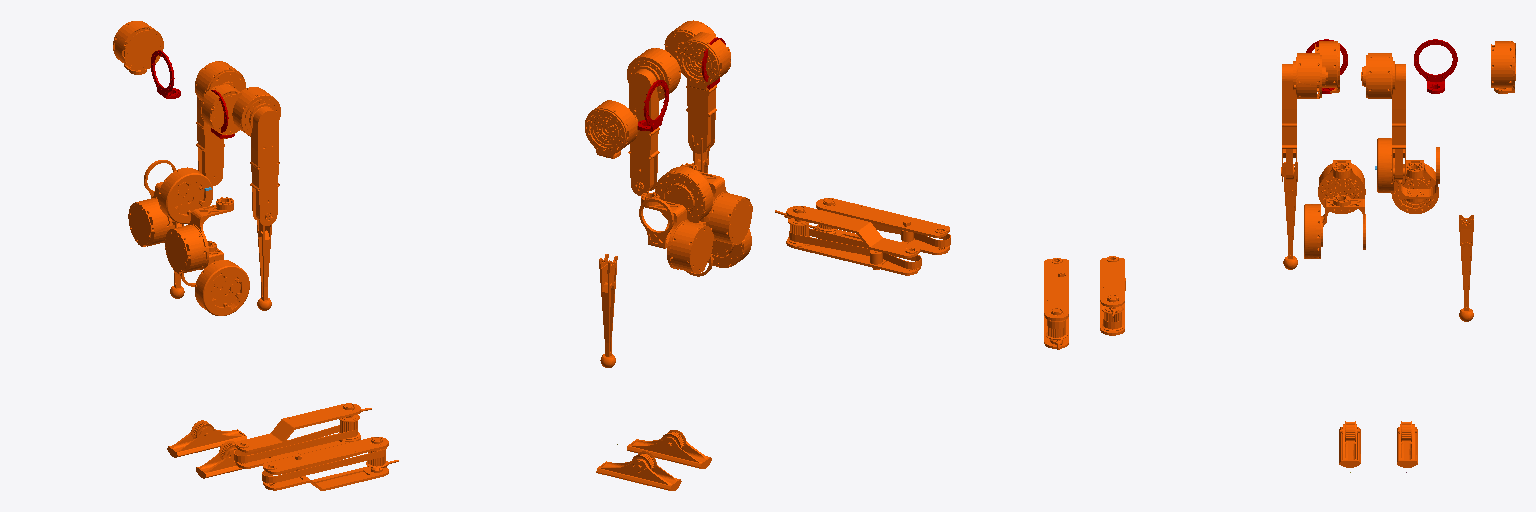
--- Render facts (derived) ---
3 views of the same robot in one strip: view 1: azimuth 30°, elevation 25°; view 2: azimuth 150°, elevation 25°; view 3: azimuth 270°, elevation 25° (orthographic).
Model robot with 18 links and 17 joints (16 revolute, 1 fixed), rooted at base, posed all joints at 0.
Links seen in each view (by area): view 1: R_LUpperArm, R_LShank, L_LShank, R_LHipRx, L_LUpperArm, L_LHipRx, R_LHipRz, L_LForeArm, R_LForeArm, L_LHipRz, L_Foot, R_Foot (+1 smaller); view 2: L_LShank, L_LUpperArm, L_LForeArm, R_LShank, L_LHipRx, L_LHipRz, R_LUpperArm, R_LForeArm, R_LHipRz, L_Foot, R_Foot, R_LHipRx (+1 smaller); view 3: R_LUpperArm, L_LUpperArm, L_LForeArm, R_LShank, L_LShank, R_LForeArm, R_LHipRz, R_LHipRx, L_LHipRx, L_LHipRz, R_Foot, L_Foot (+1 smaller).
Boxes of the visible links, box(x1,y1,x2,y2) form: R_LUpperArm: box(232, 87, 280, 225); R_LShank: box(262, 437, 398, 490); L_LShank: box(234, 403, 371, 468); R_LHipRx: box(180, 241, 249, 315); L_LUpperArm: box(195, 61, 245, 185); L_LHipRx: box(144, 160, 212, 223); R_LHipRz: box(165, 197, 233, 273); L_LForeArm: box(113, 21, 184, 298); R_LForeArm: box(200, 84, 271, 310); L_LHipRz: box(128, 182, 172, 246); L_Foot: box(167, 420, 246, 457); R_Foot: box(196, 441, 246, 478); L_LShank: box(775, 206, 921, 275); L_LUpperArm: box(627, 48, 680, 195); L_LForeArm: box(585, 100, 638, 367); R_LShank: box(809, 198, 950, 254); L_LHipRx: box(639, 166, 712, 248); L_LHipRz: box(641, 191, 713, 273); R_LUpperArm: box(664, 20, 716, 153); R_LForeArm: box(678, 32, 730, 172); R_LHipRz: box(681, 163, 752, 244); L_Foot: box(596, 451, 681, 490); R_Foot: box(617, 430, 711, 468); R_LHipRx: box(686, 216, 751, 276); R_LUpperArm: box(1281, 53, 1327, 181); L_LUpperArm: box(1361, 53, 1406, 181); L_LForeArm: box(1459, 41, 1515, 321); R_LShank: box(1044, 258, 1068, 349); L_LShank: box(1100, 256, 1125, 335); R_LForeArm: box(1283, 41, 1339, 269); R_LHipRz: box(1318, 160, 1365, 213); R_LHipRx: box(1304, 195, 1365, 258); L_LHipRx: box(1377, 138, 1439, 202); L_LHipRz: box(1391, 160, 1438, 213); R_Foot: box(1339, 421, 1360, 472); L_Foot: box(1397, 421, 1417, 472).
Size in the robot's own frame: 0.3961 by 0.9617 by 0.8937 metres.
16 mesh visuals loaded from 17 distinct referenced files (14 OBJ); not drawn: 3 (reference not matched to a file when rendering).

The robot description file, URDF, robot "robot":
<?xml version="1.0" ?>
<!-- =================================================================================== -->
<!-- |    This document was autogenerated by xacro from robot.xacro                    | -->
<!-- |    EDITING THIS FILE BY HAND IS NOT RECOMMENDED                                 | -->
<!-- =================================================================================== -->
<robot name="robot">
  <material name="black">
    <color rgba="0.0 0.0 0.0 1.0"/>
  </material>
  <material name="blue">
    <color rgba="0.0 0.0 0.8 1.0"/>
  </material>
  <material name="green">
    <color rgba="0.0 0.8 0.0 1.0"/>
  </material>
  <material name="grey">
    <color rgba="0.2 0.2 0.2 1.0"/>
  </material>
  <material name="silver">
    <color rgba="0.9137254901960784 0.9137254901960784 0.8470588235294118 1.0"/>
  </material>
  <material name="orange">
    <color rgba="1.0 0.4235294117647059 0.0392156862745098 1.0"/>
  </material>
  <material name="brown">
    <color rgba="0.8705882352941177 0.8117647058823529 0.7647058823529411 1.0"/>
  </material>
  <material name="red">
    <color rgba="0.8 0.0 0.0 1.0"/>
  </material>
  <material name="white">
    <color rgba="1.0 1.0 1.0 1.0"/>
  </material>
  <!-- ros_control plugin -->
  <gazebo>
    <plugin filename="liblegged_hw_sim.so" name="gazebo_ros_control">
      <robotNamespace>/</robotNamespace>
      <robotParam>legged_robot_description</robotParam>
      <robotSimType>legged_gazebo/LeggedHWSim</robotSimType>
    </plugin>
  </gazebo>
  <gazebo>
    <plugin filename="libgazebo_ros_p3d.so" name="p3d_base_controller">
      <alwaysOn>true</alwaysOn>
      <updateRate>1000.0</updateRate>
      <bodyName>base</bodyName>
      <topicName>ground_truth/state</topicName>
      <gaussianNoise>0</gaussianNoise>
      <frameName>world</frameName>
      <xyzOffsets>0 0 0</xyzOffsets>
      <rpyOffsets>0 0 0</rpyOffsets>
    </plugin>
  </gazebo>
  <link name="base">
    <visual>
      <origin rpy="0 0 0" xyz="0 0 0"/>
      <geometry>
        <mesh filename="package://legged_unitree_description/meshes/a1/Body.obj" scale="1 1 1"/>
      </geometry>
    </visual>
    <collision>
      <origin rpy="0 0 0" xyz="0 0 0"/>
      <geometry>
        <box size="0.267 0.194 0.114"/>
      </geometry>
    </collision>
    <inertial>
      <origin rpy="0 0 0" xyz="0.0 0.0 0.15"/>
      <mass value="6.5"/>
      <inertia ixx="0.3006167" ixy="-0.0" ixz="-0.0" iyy="0.23837" iyz="-0.0" izz="0.09690467"/>
    </inertial>
  </link>
  <!-- Imu is fixed to the base link -->
  <joint name="unitree_imu_joint" type="fixed">
    <origin rpy="0. 0. 0." xyz="0. 0. 0."/>
    <parent link="base"/>
    <child link="unitree_imu"/>
  </joint>
  <!-- Imu link -->
  <link name="unitree_imu">
    <inertial>
      <mass value="0.01"/>
      <origin rpy="0 0 0" xyz="0 0 0"/>
      <inertia ixx="0.000001" ixy="0" ixz="0" iyy="0.000001" iyz="0" izz="0.000001"/>
    </inertial>
    <visual>
      <origin rpy="0 0 0" xyz="0 0 0"/>
      <geometry>
        <box size="0.015 0.015 0.004"/>
      </geometry>
    </visual>
    <material name="orange">
      <color rgba="255 108 10 255"/>
    </material>
  </link>
  <gazebo reference="unitree_imu">
    <material>Gazebo/Orange</material>
  </gazebo>
  <gazebo reference="unitree_imu_joint">
    <disableFixedJointLumping>true</disableFixedJointLumping>
  </gazebo>
  <joint name="L_JHipRz" type="revolute">
    <origin rpy="0 0 0" xyz="0 0.075 0"/>
    <parent link="base"/>
    <child link="L_LHipRz"/>
    <axis xyz="0 0 1"/>
    <dynamics damping="100" friction="100"/>
    <limit effort="33.5" lower="-3" upper="3" velocity="21"/>
  </joint>
  <link name="L_LHipRz">
    <visual>
      <origin rpy="0 0 0.0" xyz="0 0 0"/>
      <geometry>
        <mesh filename="package://legged_unitree_description/meshes/a1/L_HipRz.obj" scale="1 1 1"/>
      </geometry>
      <material name="orange"/>
    </visual>
    <inertial>
      <origin rpy="0 0 0" xyz="0.0 0.0 -0.01"/>
      <mass value="0.30"/>
      <inertia ixx="0.003735" ixy="0.0" ixz="0.0" iyy="0.01391" iyz="0.0" izz="0.01355"/>
    </inertial>
  </link>
  <joint name="L_JHipRx" type="revolute">
    <origin rpy="0 0 0" xyz="-0.041 0.0 -0.0885"/>
    <parent link="L_LHipRz"/>
    <child link="L_LHipRx"/>
    <axis xyz="1 0 0"/>
    <dynamics damping="100" friction="100"/>
    <limit effort="33.5" lower="-3" upper="3" velocity="33.5"/>
  </joint>
  <link name="L_LHipRx">
    <visual>
      <origin rpy="0 -3.14 -3.14" xyz="0. 0.00 -0.0"/>
      <geometry>
        <mesh filename="package://legged_unitree_description/meshes/a1/L_HipRx.obj" scale="1 1 1"/>
      </geometry>
      <material name="orange"/>
    </visual>
    <inertial>
      <origin rpy="0 0 0" xyz="0.0 0.0 -0.01"/>
      <mass value="0.30"/>
      <inertia ixx="0.003735" ixy="0.0" ixz="0.0" iyy="0.01391" iyz="0.0" izz="0.01355"/>
    </inertial>
  </link>
  <joint name="L_JThigh" type="revolute">
    <origin rpy="0 0 0" xyz="0.065 0.0 0.0"/>
    <parent link="L_LHipRx"/>
    <child link="L_LThigh"/>
    <axis xyz="0 1 0"/>
    <dynamics damping="100" friction="100"/>
    <limit effort="33.5" lower="-3" upper="3" velocity="33.5"/>
  </joint>
  <link name="L_LThigh">
    <visual>
      <origin rpy="0 0 -3.14" xyz="0. 0.00 -0.0"/>
      <geometry>
        <mesh filename="package://legged_unitree_description/meshes/a1/L_Thigh.obj" scale="1 1 1"/>
      </geometry>
      <material name="orange"/>
    </visual>
    <inertial>
      <origin rpy="0 0 0" xyz="0.0 0.0 -0.01"/>
      <mass value="1.0"/>
      <inertia ixx="0.003735" ixy="0.0" ixz="0.0" iyy="0.01391" iyz="0.0" izz="0.01355"/>
    </inertial>
  </link>
  <joint name="L_JKnee" type="revolute">
    <origin rpy="0 0 0" xyz="0.0 -0.017875 -0.247"/>
    <parent link="L_LThigh"/>
    <child link="L_LShank"/>
    <axis xyz="0 1 0"/>
    <dynamics damping="100" friction="100"/>
    <limit effort="33.5" lower="-3" upper="3" velocity="33.5"/>
  </joint>
  <link name="L_LShank">
    <visual>
      <origin rpy="0 -3.14 0" xyz="0 -0.6 0"/>
      <geometry>
        <mesh filename="package://legged_unitree_description/meshes/a1/L_LowerLeg3_drawing.obj" scale="1 1 1"/>
      </geometry>
      <material name="orange"/>
    </visual>
    <inertial>
      <origin rpy="0 0 0" xyz="-0.03416 -0.00075 -0.01"/>
      <mass value="0.70"/>
      <inertia ixx="0.003735" ixy="0.0" ixz="0.0" iyy="0.01391" iyz="0.0" izz="0.01355"/>
    </inertial>
  </link>
  <joint name="L_JAnkle" type="revolute">
    <origin rpy="0 0 0" xyz="0.0 0.0 -0.247"/>
    <parent link="L_LShank"/>
    <child link="L_Foot"/>
    <axis xyz="0 1 0"/>
    <dynamics damping="100" friction="100"/>
    <limit effort="33.5" lower="-3" upper="3" velocity="33.5"/>
  </joint>
  <link name="L_Foot">
    <visual>
      <origin rpy="1.57 1.57 0" xyz="0 0 0"/>
      <geometry>
        <mesh filename="package://legged_unitree_description/meshes/a1/L_foot_drawing.obj" scale="1 1 1"/>
      </geometry>
      <material name="orange"/>
    </visual>
    <visual>
      <geometry>
        <sphere radius="0.001"/>
      </geometry>
      <origin rpy="0 0 0" xyz="0.125 0.0 -0.033"/>
    </visual>
    <collision>
      <geometry>
        <sphere radius="0.0"/>
      </geometry>
      <origin rpy="0 0 0" xyz="0.125 0.0 -0.033"/>
    </collision>
    <visual>
      <geometry>
        <sphere radius="0.001"/>
      </geometry>
      <origin rpy="0 0 0" xyz="-0.025 0.0 -0.033"/>
    </visual>
    <collision>
      <geometry>
        <sphere radius="0.0"/>
      </geometry>
      <origin rpy="0 0 0" xyz="-0.025 0.0 -0.033"/>
    </collision>
    <inertial>
      <origin rpy="0 0 0" xyz="0.0 0.0 -0.01"/>
      <mass value="0.30"/>
      <inertia ixx="0.003735" ixy="0.0" ixz="0.0" iyy="0.01391" iyz="0.0" izz="0.01355"/>
    </inertial>
  </link>
  <gazebo reference="L_LHipRz">
    <mu1>0.2</mu1>
    <mu2>0.2</mu2>
    <material>Gazebo/DarkGrey</material>
    <kp value="1000000.0"/>
    <kd value="100.0"/>
  </gazebo>
  <gazebo reference="L_LHipRx">
    <mu1>0.2</mu1>
    <mu2>0.2</mu2>
    <material>Gazebo/DarkGrey</material>
    <kp value="1000000.0"/>
    <kd value="100.0"/>
  </gazebo>
  <gazebo reference="L_LThigh">
    <mu1>0.2</mu1>
    <mu2>0.2</mu2>
    <material>Gazebo/DarkGrey</material>
    <kp value="1000000.0"/>
    <kd value="100.0"/>
  </gazebo>
  <gazebo reference="L_LShank">
    <mu1>0.2</mu1>
    <mu2>0.2</mu2>
    <material>Gazebo/DarkGrey</material>
    <kp value="1000000.0"/>
    <kd value="100.0"/>
  </gazebo>
  <gazebo reference="L_Foot">
    <mu1>0.2</mu1>
    <mu2>0.2</mu2>
    <material>Gazebo/DarkGrey</material>
    <kp value="1000000.0"/>
    <kd value="100.0"/>
  </gazebo>
  <transmission name="L_JHipRz_tran">
    <type>transmission_interface/SimpleTransmission</type>
    <joint name="L_JHipRz">
      <hardwareInterface>hardware_interface/EffortJointInterface</hardwareInterface>
    </joint>
    <actuator name="L_JHipRz_motor">
      <hardwareInterface>hardware_interface/EffortJointInterface</hardwareInterface>
      <mechanicalReduction>1</mechanicalReduction>
    </actuator>
  </transmission>
  <transmission name="L_JHipRx_tran">
    <type>transmission_interface/SimpleTransmission</type>
    <joint name="L_JHipRx">
      <hardwareInterface>hardware_interface/EffortJointInterface</hardwareInterface>
    </joint>
    <actuator name="L_JHipRx_motor">
      <hardwareInterface>hardware_interface/EffortJointInterface</hardwareInterface>
      <mechanicalReduction>1</mechanicalReduction>
    </actuator>
  </transmission>
  <transmission name="L_JThigh_tran">
    <type>transmission_interface/SimpleTransmission</type>
    <joint name="L_JThigh">
      <hardwareInterface>hardware_interface/EffortJointInterface</hardwareInterface>
    </joint>
    <actuator name="L_JThigh_motor">
      <hardwareInterface>hardware_interface/EffortJointInterface</hardwareInterface>
      <mechanicalReduction>1</mechanicalReduction>
    </actuator>
  </transmission>
  <transmission name="L_JKnee_tran">
    <type>transmission_interface/SimpleTransmission</type>
    <joint name="L_JKnee">
      <hardwareInterface>hardware_interface/EffortJointInterface</hardwareInterface>
    </joint>
    <actuator name="L_JKnee_motor">
      <hardwareInterface>hardware_interface/EffortJointInterface</hardwareInterface>
      <mechanicalReduction>1</mechanicalReduction>
    </actuator>
  </transmission>
  <transmission name="L_JAnkle_tran">
    <type>transmission_interface/SimpleTransmission</type>
    <joint name="L_JAnkle">
      <hardwareInterface>hardware_interface/EffortJointInterface</hardwareInterface>
    </joint>
    <actuator name="L_JAnkle_motor">
      <hardwareInterface>hardware_interface/EffortJointInterface</hardwareInterface>
      <mechanicalReduction>1</mechanicalReduction>
    </actuator>
  </transmission>
  <joint name="R_JHipRz" type="revolute">
    <origin rpy="0 0 0" xyz="0 -0.075 0"/>
    <parent link="base"/>
    <child link="R_LHipRz"/>
    <axis xyz="0 0 1"/>
    <dynamics damping="100" friction="100"/>
    <limit effort="33.5" lower="-3" upper="3" velocity="21"/>
  </joint>
  <link name="R_LHipRz">
    <visual>
      <origin rpy="0 0 0.0" xyz="0 0 0"/>
      <geometry>
        <mesh filename="package://legged_unitree_description/meshes/a1/R_HipRz.obj" scale="1 1 1"/>
      </geometry>
      <material name="orange"/>
    </visual>
    <inertial>
      <origin rpy="0 0 0" xyz="0.0 0.0 -0.01"/>
      <mass value="0.30"/>
      <inertia ixx="0.003735" ixy="0.0" ixz="0.0" iyy="0.01391" iyz="0.0" izz="0.01355"/>
    </inertial>
  </link>
  <joint name="R_JHipRx" type="revolute">
    <origin rpy="0 0 0" xyz="-0.041 0.0 -0.0885"/>
    <parent link="R_LHipRz"/>
    <child link="R_LHipRx"/>
    <axis xyz="1 0 0"/>
    <dynamics damping="100" friction="100"/>
    <limit effort="33.5" lower="-3" upper="3" velocity="33.5"/>
  </joint>
  <link name="R_LHipRx">
    <visual>
      <geometry>
        <mesh filename="package://legged_unitree_description/meshes/a1/R_HipRx.obj" scale="1 1 1"/>
      </geometry>
      <material name="orange"/>
    </visual>
    <inertial>
      <origin rpy="0 0 0" xyz="0.0 0.0 -0.01"/>
      <mass value="0.30"/>
      <inertia ixx="0.003735" ixy="0.0" ixz="0.0" iyy="0.01391" iyz="0.0" izz="0.01355"/>
    </inertial>
  </link>
  <joint name="R_JThigh" type="revolute">
    <origin rpy="0 0 0" xyz="0.065 0.0 0.0"/>
    <parent link="R_LHipRx"/>
    <child link="R_LThigh"/>
    <axis xyz="0 1 0"/>
    <dynamics damping="100" friction="100"/>
    <limit effort="33.5" lower="-3" upper="3" velocity="33.5"/>
  </joint>
  <link name="R_LThigh">
    <visual>
      <geometry>
        <mesh filename="package://legged_unitree_description/meshes/a1/R_Thigh.obj" scale="1 1 1"/>
      </geometry>
      <material name="orange"/>
    </visual>
    <inertial>
      <origin rpy="0 0 0" xyz="0.0 0.0 -0.01"/>
      <mass value="1.0"/>
      <inertia ixx="0.003735" ixy="0.0" ixz="0.0" iyy="0.01391" iyz="0.0" izz="0.01355"/>
    </inertial>
  </link>
  <joint name="R_JKnee" type="revolute">
    <origin rpy="0 0 0" xyz="0.0 0.017875 -0.247"/>
    <parent link="R_LThigh"/>
    <child link="R_LShank"/>
    <axis xyz="0 1 0"/>
    <dynamics damping="100" friction="100"/>
    <limit effort="33.5" lower="-3" upper="3" velocity="33.5"/>
  </joint>
  <link name="R_LShank">
    <visual>
      <origin rpy="0 -3.14 0" xyz="0 -0.6 0"/>
      <geometry>
        <mesh filename="package://legged_unitree_description/meshes/a1/R_LowerLeg3_drawing.obj" scale="1 1 1"/>
      </geometry>
      <material name="orange"/>
    </visual>
    <inertial>
      <origin rpy="0 0 0" xyz="-0.03416 -0.00075 -0.01"/>
      <mass value="0.70"/>
      <inertia ixx="0.003735" ixy="0.0" ixz="0.0" iyy="0.01391" iyz="0.0" izz="0.01355"/>
    </inertial>
  </link>
  <joint name="R_JAnkle" type="revolute">
    <origin rpy="0 0 0" xyz="0.0 0.0 -0.247"/>
    <parent link="R_LShank"/>
    <child link="R_Foot"/>
    <axis xyz="0 1 0"/>
    <dynamics damping="100" friction="100"/>
    <limit effort="33.5" lower="-3" upper="3" velocity="33.5"/>
  </joint>
  <link name="R_Foot">
    <visual>
      <origin rpy="1.57 1.57 0" xyz="0 0 0"/>
      <geometry>
        <mesh filename="package://legged_unitree_description/meshes/a1/R_foot_drawing.obj" scale="1 1 1"/>
      </geometry>
      <material name="orange"/>
    </visual>
    <visual>
      <geometry>
        <sphere radius="0.001"/>
      </geometry>
      <origin rpy="0 0 0" xyz="0.125 0.0 -0.033"/>
    </visual>
    <collision>
      <geometry>
        <sphere radius="0.0"/>
      </geometry>
      <origin rpy="0 0 0" xyz="0.125 0.0 -0.033"/>
    </collision>
    <visual>
      <geometry>
        <sphere radius="0.001"/>
      </geometry>
      <origin rpy="0 0 0" xyz="-0.025 0.0 -0.033"/>
    </visual>
    <collision>
      <geometry>
        <sphere radius="0.0"/>
      </geometry>
      <origin rpy="0 0 0" xyz="-0.025 0.0 -0.033"/>
    </collision>
    <inertial>
      <origin rpy="0 0 0" xyz="0.0 0.0 -0.01"/>
      <mass value="0.30"/>
      <inertia ixx="0.003735" ixy="0.0" ixz="0.0" iyy="0.01391" iyz="0.0" izz="0.01355"/>
    </inertial>
  </link>
  <gazebo reference="R_LHipRz">
    <mu1>0.2</mu1>
    <mu2>0.2</mu2>
    <material>Gazebo/DarkGrey</material>
    <kp value="1000000.0"/>
    <kd value="100.0"/>
  </gazebo>
  <gazebo reference="R_LHipRx">
    <mu1>0.2</mu1>
    <mu2>0.2</mu2>
    <material>Gazebo/DarkGrey</material>
    <kp value="1000000.0"/>
    <kd value="100.0"/>
  </gazebo>
  <gazebo reference="R_LThigh">
    <mu1>0.2</mu1>
    <mu2>0.2</mu2>
    <material>Gazebo/DarkGrey</material>
    <kp value="1000000.0"/>
    <kd value="100.0"/>
  </gazebo>
  <gazebo reference="R_LShank">
    <mu1>0.2</mu1>
    <mu2>0.2</mu2>
    <material>Gazebo/DarkGrey</material>
    <kp value="1000000.0"/>
    <kd value="100.0"/>
  </gazebo>
  <gazebo reference="R_Foot">
    <mu1>0.2</mu1>
    <mu2>0.2</mu2>
    <material>Gazebo/DarkGrey</material>
    <kp value="1000000.0"/>
    <kd value="100.0"/>
  </gazebo>
  <transmission name="R_JHipRz_tran">
    <type>transmission_interface/SimpleTransmission</type>
    <joint name="R_JHipRz">
      <hardwareInterface>hardware_interface/EffortJointInterface</hardwareInterface>
    </joint>
    <actuator name="R_JHipRz_motor">
      <hardwareInterface>hardware_interface/EffortJointInterface</hardwareInterface>
      <mechanicalReduction>1</mechanicalReduction>
    </actuator>
  </transmission>
  <transmission name="R_JHipRx_tran">
    <type>transmission_interface/SimpleTransmission</type>
    <joint name="R_JHipRx">
      <hardwareInterface>hardware_interface/EffortJointInterface</hardwareInterface>
    </joint>
    <actuator name="R_JHipRx_motor">
      <hardwareInterface>hardware_interface/EffortJointInterface</hardwareInterface>
      <mechanicalReduction>1</mechanicalReduction>
    </actuator>
  </transmission>
  <transmission name="R_JThigh_tran">
    <type>transmission_interface/SimpleTransmission</type>
    <joint name="R_JThigh">
      <hardwareInterface>hardware_interface/EffortJointInterface</hardwareInterface>
    </joint>
    <actuator name="R_JThigh_motor">
      <hardwareInterface>hardware_interface/EffortJointInterface</hardwareInterface>
      <mechanicalReduction>1</mechanicalReduction>
    </actuator>
  </transmission>
  <transmission name="R_JKnee_tran">
    <type>transmission_interface/SimpleTransmission</type>
    <joint name="R_JKnee">
      <hardwareInterface>hardware_interface/EffortJointInterface</hardwareInterface>
    </joint>
    <actuator name="R_JKnee_motor">
      <hardwareInterface>hardware_interface/EffortJointInterface</hardwareInterface>
      <mechanicalReduction>1</mechanicalReduction>
    </actuator>
  </transmission>
  <transmission name="R_JAnkle_tran">
    <type>transmission_interface/SimpleTransmission</type>
    <joint name="R_JAnkle">
      <hardwareInterface>hardware_interface/EffortJointInterface</hardwareInterface>
    </joint>
    <actuator name="R_JAnkle_motor">
      <hardwareInterface>hardware_interface/EffortJointInterface</hardwareInterface>
      <mechanicalReduction>1</mechanicalReduction>
    </actuator>
  </transmission>
  <joint name="L_JShoulderRx" type="revolute">
    <origin rpy="0 0 0" xyz="-0.0215 0.1115 0.202"/>
    <parent link="base"/>
    <child link="L_LShoulderRx"/>
    <axis xyz="1 0 0"/>
    <dynamics damping="100" friction="100"/>
    <limit effort="33.5" lower="-3" upper="3" velocity="21"/>
  </joint>
  <link name="L_LShoulderRx">
    <visual>
      <origin rpy="3.14 0 -1.570" xyz="0.006 -0.005 -0.034"/>
      <origin rpy="3.14 0 -1.570" xyz="0.006 0.005 -0.034"/>
      <geometry>
        <mesh filename="package://legged_unitree_description/meshes/a1/L_ShoulderRx.obj" scale="1 1 1"/>
      </geometry>
      <material name="red"/>
    </visual>
    <inertial>
      <origin rpy="0 0 0" xyz="0.01 0.0 0.0"/>
      <mass value="0.30"/>
      <inertia ixx="0.003735" ixy="0.0" ixz="0.0" iyy="0.01391" iyz="0.0" izz="0.01355"/>
    </inertial>
  </link>
  <joint name="L_JUpperArm" type="revolute">
    <origin rpy="0 0 0" xyz="0.0545 0.0 0.0"/>
    <parent link="L_LShoulderRx"/>
    <child link="L_LUpperArm"/>
    <axis xyz="0 1 0"/>
    <dynamics damping="100" friction="100"/>
    <limit effort="33.5" lower="-3" upper="3" velocity="33.5"/>
  </joint>
  <link name="L_LUpperArm">
    <visual>
      <origin rpy="1.57 1.57 0" xyz="0. 0.07 0.02"/>
      <origin rpy="1.57 1.57 0.0" xyz="0 -0.07 0.02"/>
      <geometry>
        <mesh filename="package://legged_unitree_description/meshes/a1/L_UpperArm.obj" scale="1 1 1"/>
      </geometry>
      <material name="orange"/>
    </visual>
    <inertial>
      <origin rpy="0 0 0" xyz="0.0 0.0 -0.09"/>
      <mass value="0.37"/>
      <inertia ixx="0.003735" ixy="0.0" ixz="0.0" iyy="0.01391" iyz="0.0" izz="0.01355"/>
    </inertial>
  </link>
  <joint name="L_JForeArm" type="revolute">
    <origin rpy="0 0 0" xyz="0.0 0.068 -0.195"/>
    <parent link="L_LUpperArm"/>
    <child link="L_LForeArm"/>
    <axis xyz="0 1 0"/>
    <dynamics damping="100" friction="100"/>
    <limit effort="33.5" lower="-3" upper="3" velocity="33.5"/>
  </joint>
  <link name="L_LForeArm">
    <visual>
      <origin rpy="0 0 0" xyz="-0.05 -0.075 0.16"/>
      <origin rpy="0 0 3.14" xyz="-0.05 0.075 0.16"/>
      <geometry>
        <mesh filename="package://legged_unitree_description/meshes/a1/R_ShoulderRx.obj" scale="1 1 1"/>
      </geometry>
      <material name="orange"/>
    </visual>
    <visual>
      <origin rpy="0 1.570 0.0" xyz="-0.0 -0.0 0.0"/>
      <origin rpy="0 1.570 0.0" xyz="-0.0 0.0 -0.102"/>
      <geometry>
        <mesh filename="package://legged_unitree_description/meshes/a1/L_ForeArm2.obj" scale="1 1 1"/>
      </geometry>
      <material name="orange"/>
    </visual>
    <inertial>
      <origin rpy="0 0 0" xyz="0.0 0.0 -0.04"/>
      <mass value="0.1"/>
      <inertia ixx="0.003735" ixy="0.0" ixz="0.0" iyy="0.01391" iyz="0.0" izz="0.01355"/>
    </inertial>
  </link>
  <gazebo reference="L_LShoulderRx">
    <mu1>0.2</mu1>
    <mu2>0.2</mu2>
    <material>Gazebo/DarkGrey</material>
    <kp value="1000000.0"/>
    <kd value="100.0"/>
  </gazebo>
  <gazebo reference="L_LShoulderRx">
    <mu1>0.2</mu1>
    <mu2>0.2</mu2>
    <material>Gazebo/DarkGrey</material>
    <kp value="1000000.0"/>
    <kd value="100.0"/>
  </gazebo>
  <gazebo reference="L_LUpperArm">
    <mu1>0.2</mu1>
    <mu2>0.2</mu2>
    <material>Gazebo/DarkGrey</material>
    <kp value="1000000.0"/>
    <kd value="100.0"/>
  </gazebo>
  <transmission name="L_JShoulderRx_tran">
    <type>transmission_interface/SimpleTransmission</type>
    <joint name="L_JShoulderRx">
      <hardwareInterface>hardware_interface/EffortJointInterface</hardwareInterface>
    </joint>
    <actuator name="L_JShoulderRx_motor">
      <hardwareInterface>hardware_interface/EffortJointInterface</hardwareInterface>
      <mechanicalReduction>1</mechanicalReduction>
    </actuator>
  </transmission>
  <transmission name="L_JUpperArm_tran">
    <type>transmission_interface/SimpleTransmission</type>
    <joint name="L_JUpperArm">
      <hardwareInterface>hardware_interface/EffortJointInterface</hardwareInterface>
    </joint>
    <actuator name="L_JUpperArm_motor">
      <hardwareInterface>hardware_interface/EffortJointInterface</hardwareInterface>
      <mechanicalReduction>1</mechanicalReduction>
    </actuator>
  </transmission>
  <transmission name="L_JForeArm_tran">
    <type>transmission_interface/SimpleTransmission</type>
    <joint name="L_JForeArm">
      <hardwareInterface>hardware_interface/EffortJointInterface</hardwareInterface>
    </joint>
    <actuator name="L_JForeArm_motor">
      <hardwareInterface>hardware_interface/EffortJointInterface</hardwareInterface>
      <mechanicalReduction>1</mechanicalReduction>
    </actuator>
  </transmission>
  <joint name="R_JShoulderRx" type="revolute">
    <origin rpy="0 0 0" xyz="-0.0215 -0.1115 0.202"/>
    <parent link="base"/>
    <child link="R_LShoulderRx"/>
    <axis xyz="1 0 0"/>
    <dynamics damping="100" friction="100"/>
    <limit effort="33.5" lower="-3" upper="3" velocity="21"/>
  </joint>
  <link name="R_LShoulderRx">
    <visual>
      <origin rpy="3.14 0 -1.570" xyz="0.006 0.005 -0.034"/>
      <geometry>
        <mesh filename="package://legged_unitree_description/meshes/a1/L_ShoulderRx.obj" scale="1 1 1"/>
      </geometry>
      <material name="red"/>
    </visual>
    <inertial>
      <origin rpy="0 0 0" xyz="0.01 0.0 0.0"/>
      <mass value="0.30"/>
      <inertia ixx="0.003735" ixy="0.0" ixz="0.0" iyy="0.01391" iyz="0.0" izz="0.01355"/>
    </inertial>
  </link>
  <joint name="R_JUpperArm" type="revolute">
    <origin rpy="0 0 0" xyz="0.0545 0.0 0.0"/>
    <parent link="R_LShoulderRx"/>
    <child link="R_LUpperArm"/>
    <axis xyz="0 1 0"/>
    <dynamics damping="100" friction="100"/>
    <limit effort="33.5" lower="-3" upper="3" velocity="33.5"/>
  </joint>
  <link name="R_LUpperArm">
    <visual>
      <origin rpy="1.57 1.57 0.0" xyz="0 -0.07 0.02"/>
      <geometry>
        <mesh filename="package://legged_unitree_description/meshes/a1/R_UpperArm.obj" scale="1 1 1"/>
      </geometry>
      <material name="orange"/>
    </visual>
    <inertial>
      <origin rpy="0 0 0" xyz="0.0 0.0 -0.09"/>
      <mass value="0.37"/>
      <inertia ixx="0.003735" ixy="0.0" ixz="0.0" iyy="0.01391" iyz="0.0" izz="0.01355"/>
    </inertial>
  </link>
  <joint name="R_JForeArm" type="revolute">
    <origin rpy="0 0 0" xyz="0.0 -0.068 -0.195"/>
    <parent link="R_LUpperArm"/>
    <child link="R_LForeArm"/>
    <axis xyz="0 1 0"/>
    <dynamics damping="100" friction="100"/>
    <limit effort="33.5" lower="-3" upper="3" velocity="33.5"/>
  </joint>
  <link name="R_LForeArm">
    <visual>
      <origin rpy="0 0 3.14" xyz="-0.05 0.075 0.16"/>
      <geometry>
        <mesh filename="package://legged_unitree_description/meshes/a1/R_ShoulderRx.obj" scale="1 1 1"/>
      </geometry>
      <material name="orange"/>
    </visual>
    <visual>
      <origin rpy="0 1.570 0.0" xyz="-0.0 0.0 -0.102"/>
      <geometry>
        <mesh filename="package://legged_unitree_description/meshes/a1/R_ForeArm2.obj" scale="1 1 1"/>
      </geometry>
      <material name="orange"/>
    </visual>
    <inertial>
      <origin rpy="0 0 0" xyz="0.0 0.0 -0.04"/>
      <mass value="0.1"/>
      <inertia ixx="0.003735" ixy="0.0" ixz="0.0" iyy="0.01391" iyz="0.0" izz="0.01355"/>
    </inertial>
  </link>
  <gazebo reference="R_LShoulderRx">
    <mu1>0.2</mu1>
    <mu2>0.2</mu2>
    <material>Gazebo/DarkGrey</material>
    <kp value="1000000.0"/>
    <kd value="100.0"/>
  </gazebo>
  <gazebo reference="R_LShoulderRx">
    <mu1>0.2</mu1>
    <mu2>0.2</mu2>
    <material>Gazebo/DarkGrey</material>
    <kp value="1000000.0"/>
    <kd value="100.0"/>
  </gazebo>
  <gazebo reference="R_LUpperArm">
    <mu1>0.2</mu1>
    <mu2>0.2</mu2>
    <material>Gazebo/DarkGrey</material>
    <kp value="1000000.0"/>
    <kd value="100.0"/>
  </gazebo>
  <transmission name="R_JShoulderRx_tran">
    <type>transmission_interface/SimpleTransmission</type>
    <joint name="R_JShoulderRx">
      <hardwareInterface>hardware_interface/EffortJointInterface</hardwareInterface>
    </joint>
    <actuator name="R_JShoulderRx_motor">
      <hardwareInterface>hardware_interface/EffortJointInterface</hardwareInterface>
      <mechanicalReduction>1</mechanicalReduction>
    </actuator>
  </transmission>
  <transmission name="R_JUpperArm_tran">
    <type>transmission_interface/SimpleTransmission</type>
    <joint name="R_JUpperArm">
      <hardwareInterface>hardware_interface/EffortJointInterface</hardwareInterface>
    </joint>
    <actuator name="R_JUpperArm_motor">
      <hardwareInterface>hardware_interface/EffortJointInterface</hardwareInterface>
      <mechanicalReduction>1</mechanicalReduction>
    </actuator>
  </transmission>
  <transmission name="R_JForeArm_tran">
    <type>transmission_interface/SimpleTransmission</type>
    <joint name="R_JForeArm">
      <hardwareInterface>hardware_interface/EffortJointInterface</hardwareInterface>
    </joint>
    <actuator name="R_JForeArm_motor">
      <hardwareInterface>hardware_interface/EffortJointInterface</hardwareInterface>
      <mechanicalReduction>1</mechanicalReduction>
    </actuator>
  </transmission>
</robot>
